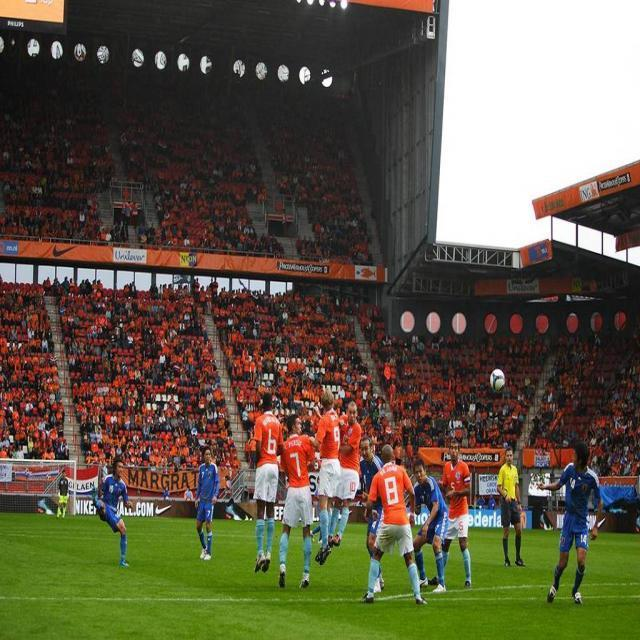football: (484, 370, 530, 396)
